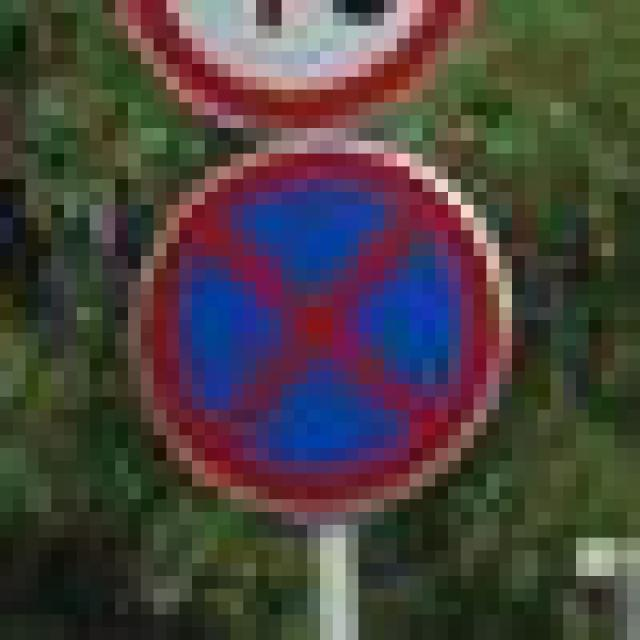no stopping or standing: (140, 148, 503, 517)
